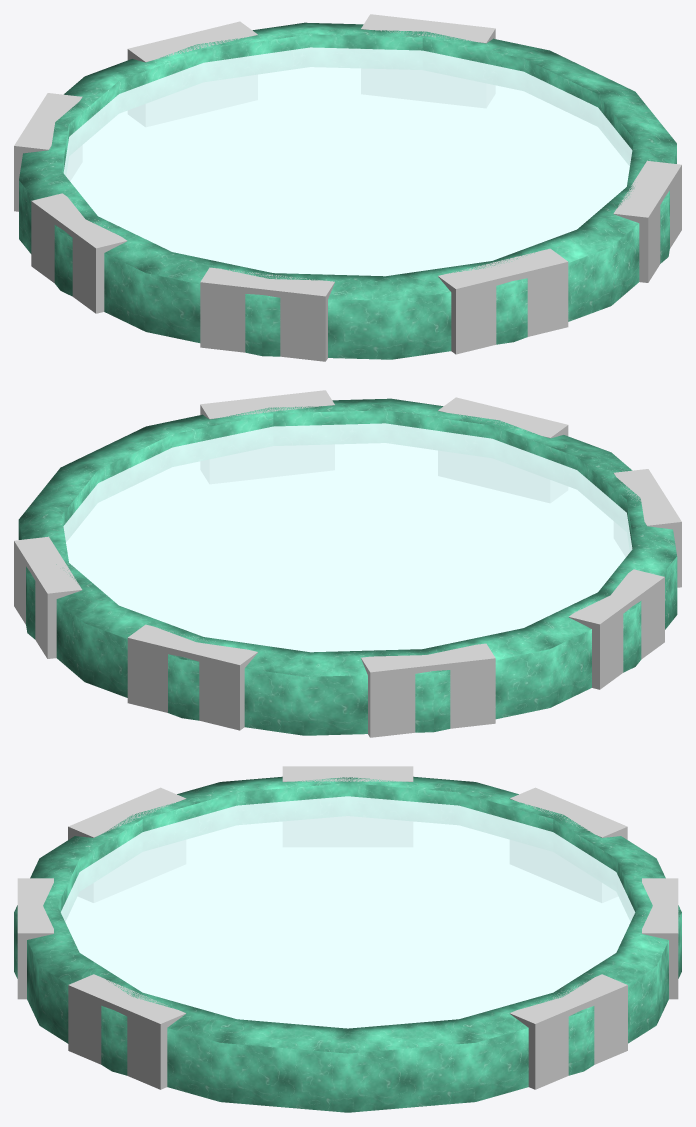
Rendered from elixir_spring.glb.
The picture shows the model from 3 angles, top to bottom: view 1: azimuth 30°, elevation 25°; view 2: azimuth 150°, elevation 25°; view 3: azimuth 270°, elevation 25°; orthographic projection.
Visible parts, largest first — view 1: Elixir, Basin, Rim-convcolonly.005, Rim-convcolonly.006, Rim-convcolonly.004, Rim-convcolonly.007, Rim-convcolonly.002, Rim-convcolonly.001, Rim-convcolonly.003; view 2: Elixir, Basin, Rim-convcolonly.003, Rim-convcolonly.002, Rim-convcolonly.004, Rim-convcolonly.001, Rim-convcolonly.007, Rim-convcolonly.005, Rim-convcolonly.006; view 3: Elixir, Basin, Rim-convcolonly.007, Rim-convcolonly.001, Rim-convcolonly.002, Rim-convcolonly.006, Rim-convcolonly.004, Rim-convcolonly.005, Rim-convcolonly.003.
Boxes of the visible parts, x1,y1,x2,y2 form: Elixir: [63, 47, 632, 276]; Basin: [19, 22, 676, 359]; Rim-convcolonly.005: [200, 267, 334, 361]; Rim-convcolonly.006: [438, 248, 568, 354]; Rim-convcolonly.004: [31, 193, 126, 313]; Rim-convcolonly.007: [613, 160, 681, 282]; Rim-convcolonly.002: [127, 21, 257, 121]; Rim-convcolonly.001: [361, 14, 495, 107]; Rim-convcolonly.003: [14, 93, 82, 211]; Elixir: [63, 423, 632, 652]; Basin: [18, 398, 677, 735]; Rim-convcolonly.003: [361, 643, 495, 737]; Rim-convcolonly.002: [127, 624, 257, 730]; Rim-convcolonly.004: [569, 569, 664, 689]; Rim-convcolonly.001: [14, 536, 82, 658]; Rim-convcolonly.007: [200, 390, 334, 482]; Rim-convcolonly.005: [613, 469, 681, 587]; Rim-convcolonly.006: [438, 397, 568, 501]; Elixir: [60, 796, 635, 1028]; Basin: [14, 776, 681, 1112]; Rim-convcolonly.007: [68, 974, 185, 1089]; Rim-convcolonly.001: [510, 974, 627, 1089]; Rim-convcolonly.002: [642, 878, 678, 999]; Rim-convcolonly.006: [17, 878, 53, 999]; Rim-convcolonly.004: [282, 766, 413, 846]; Rim-convcolonly.005: [68, 787, 186, 900]; Rim-convcolonly.003: [509, 787, 627, 897].
Size of what is drawn, in the model's own units: 9.2 by 1 by 9.2.
Materials: 2 (1 with a texture image).
